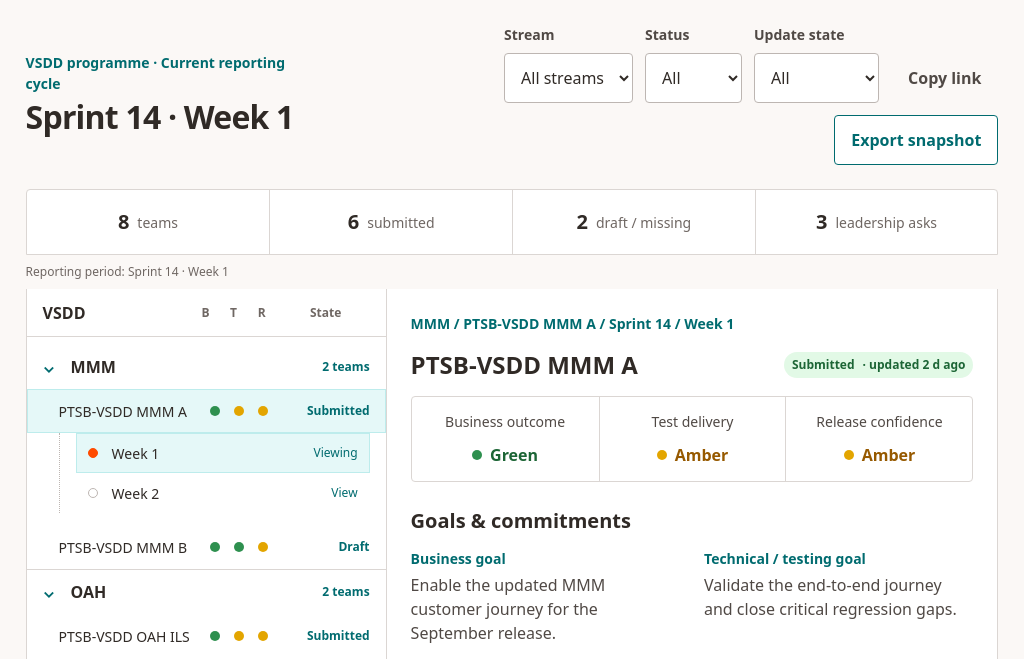
LeadershipPage › has no WCAG 2.2 AA axe violations on the filtered zero-result state
Select "Visa" in the dropdown labelled "Stream" at (568,78), box x1=504 y1=53 x2=633 y2=103
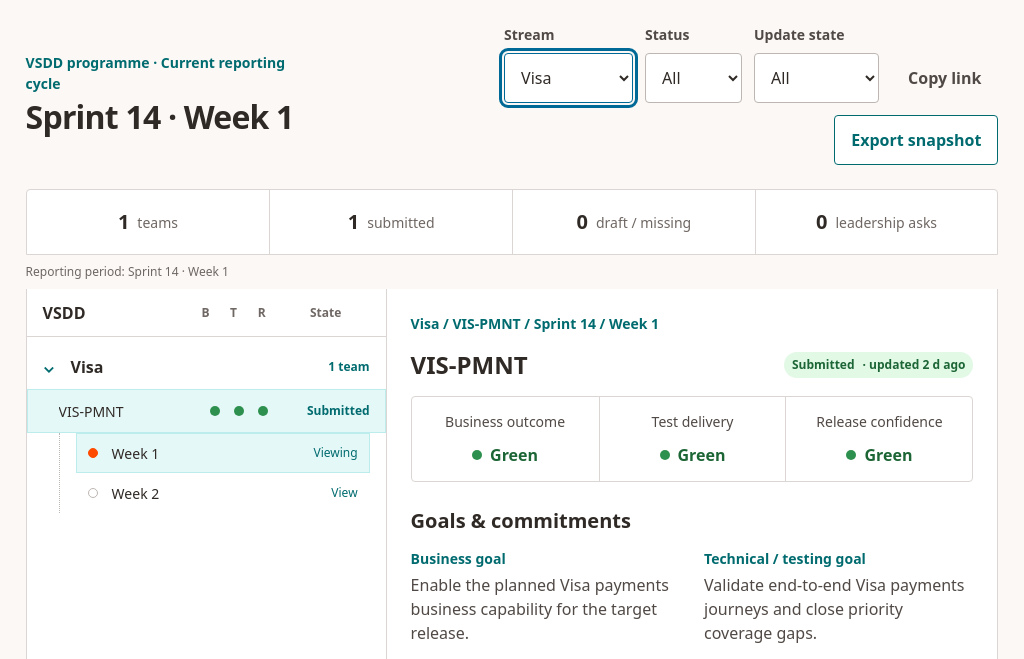
Select "Missing" in the dropdown labelled "Update state" at (816,78), box x1=754 y1=53 x2=879 y2=103
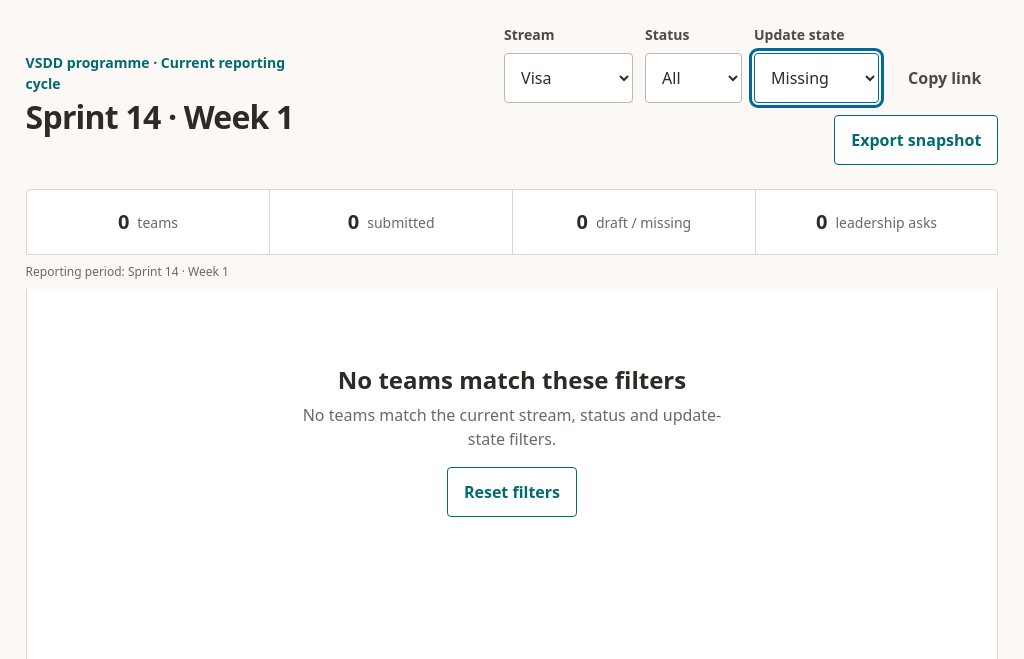
Check: the heading "No teams match these filters" is shown, box x1=338 y1=363 x2=686 y2=396
